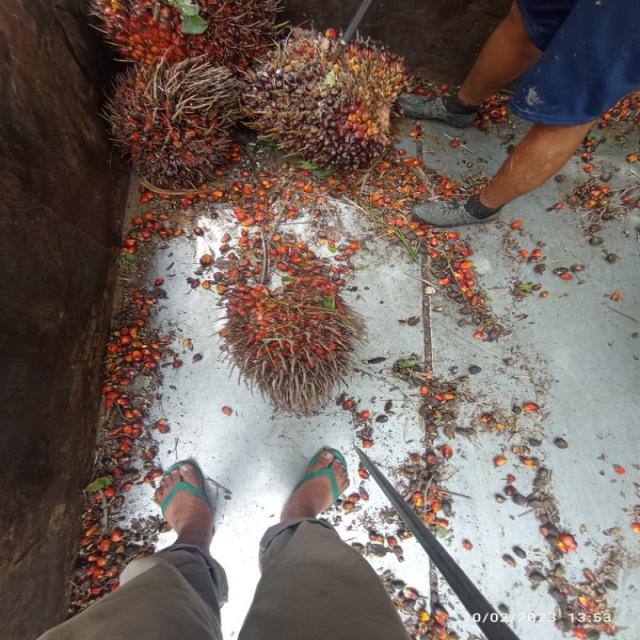fraksi 00: (240, 9, 426, 186)
fraksi 3: (82, 0, 284, 82)
fraksi 4: (206, 229, 387, 435), (93, 68, 272, 195)
